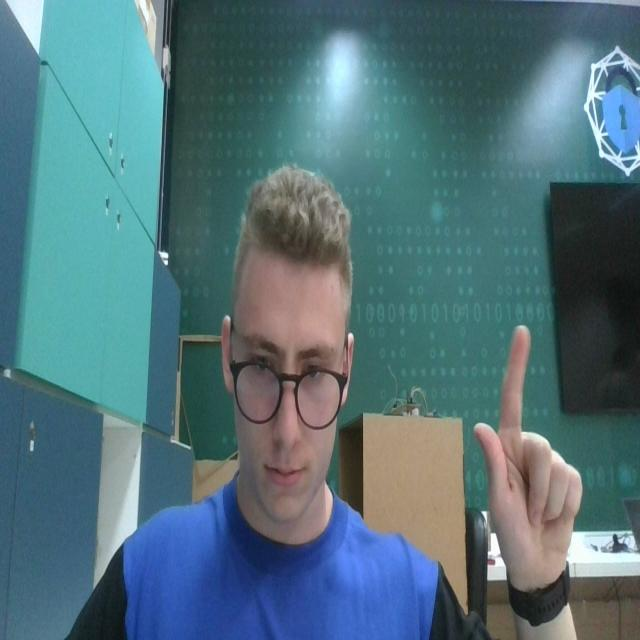G: (476, 313, 582, 595)
